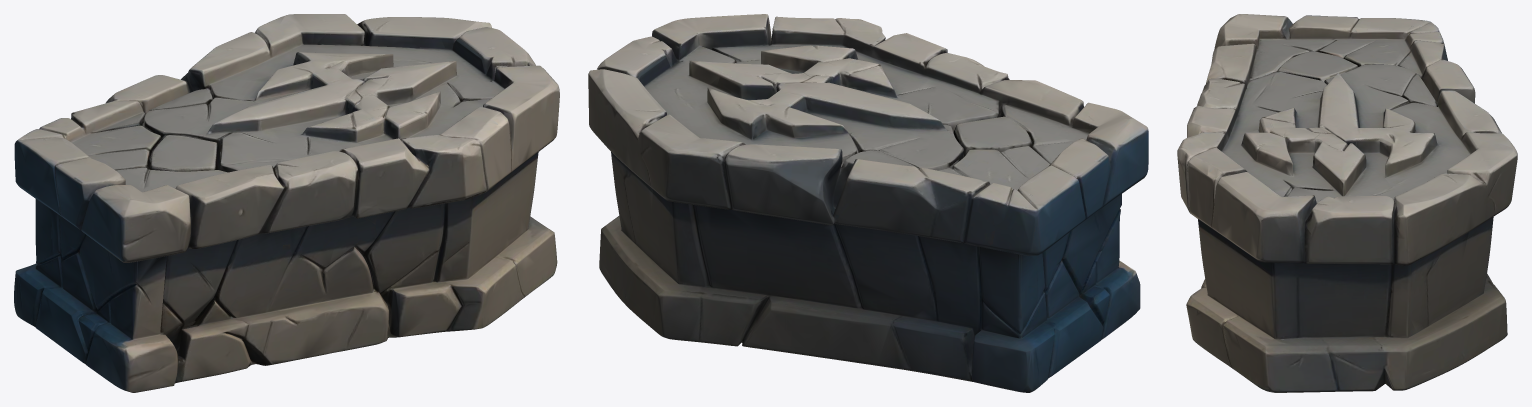
The model's file is coffin.opt.glb.
The picture shows the model from 3 angles, left to right: view 1: azimuth 30°, elevation 25°; view 2: azimuth 150°, elevation 25°; view 3: azimuth 270°, elevation 25°; orthographic projection. The views are drawn at different scales.
Visible parts, largest first — view 1: node_0; view 2: node_0; view 3: node_0.
Part boxes in pixels (x1,y1,x2,y2): node_0: (14, 14, 559, 392); node_0: (588, 14, 1148, 392); node_0: (1177, 14, 1517, 392).
Bounding box in the file's own units: 1.04 × 0.4314 × 0.7156.
1 material, 1 textured.
